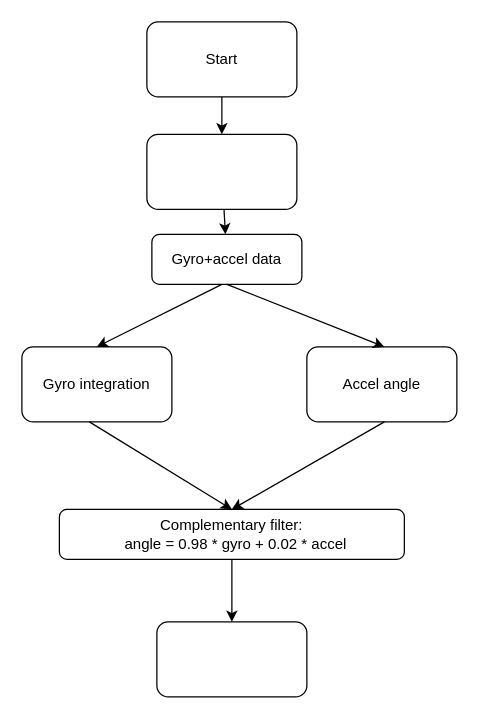
Some shapes in this 479 by 719 pixel diagram are drawn without their labels. The shapes that lost their labels are listed below. From the top down, each one's centre as x and y in pixels, then its label:
the point at 221,171: Wacht op imu_data (queue)
the point at 231,659: Output: pitch + roll
